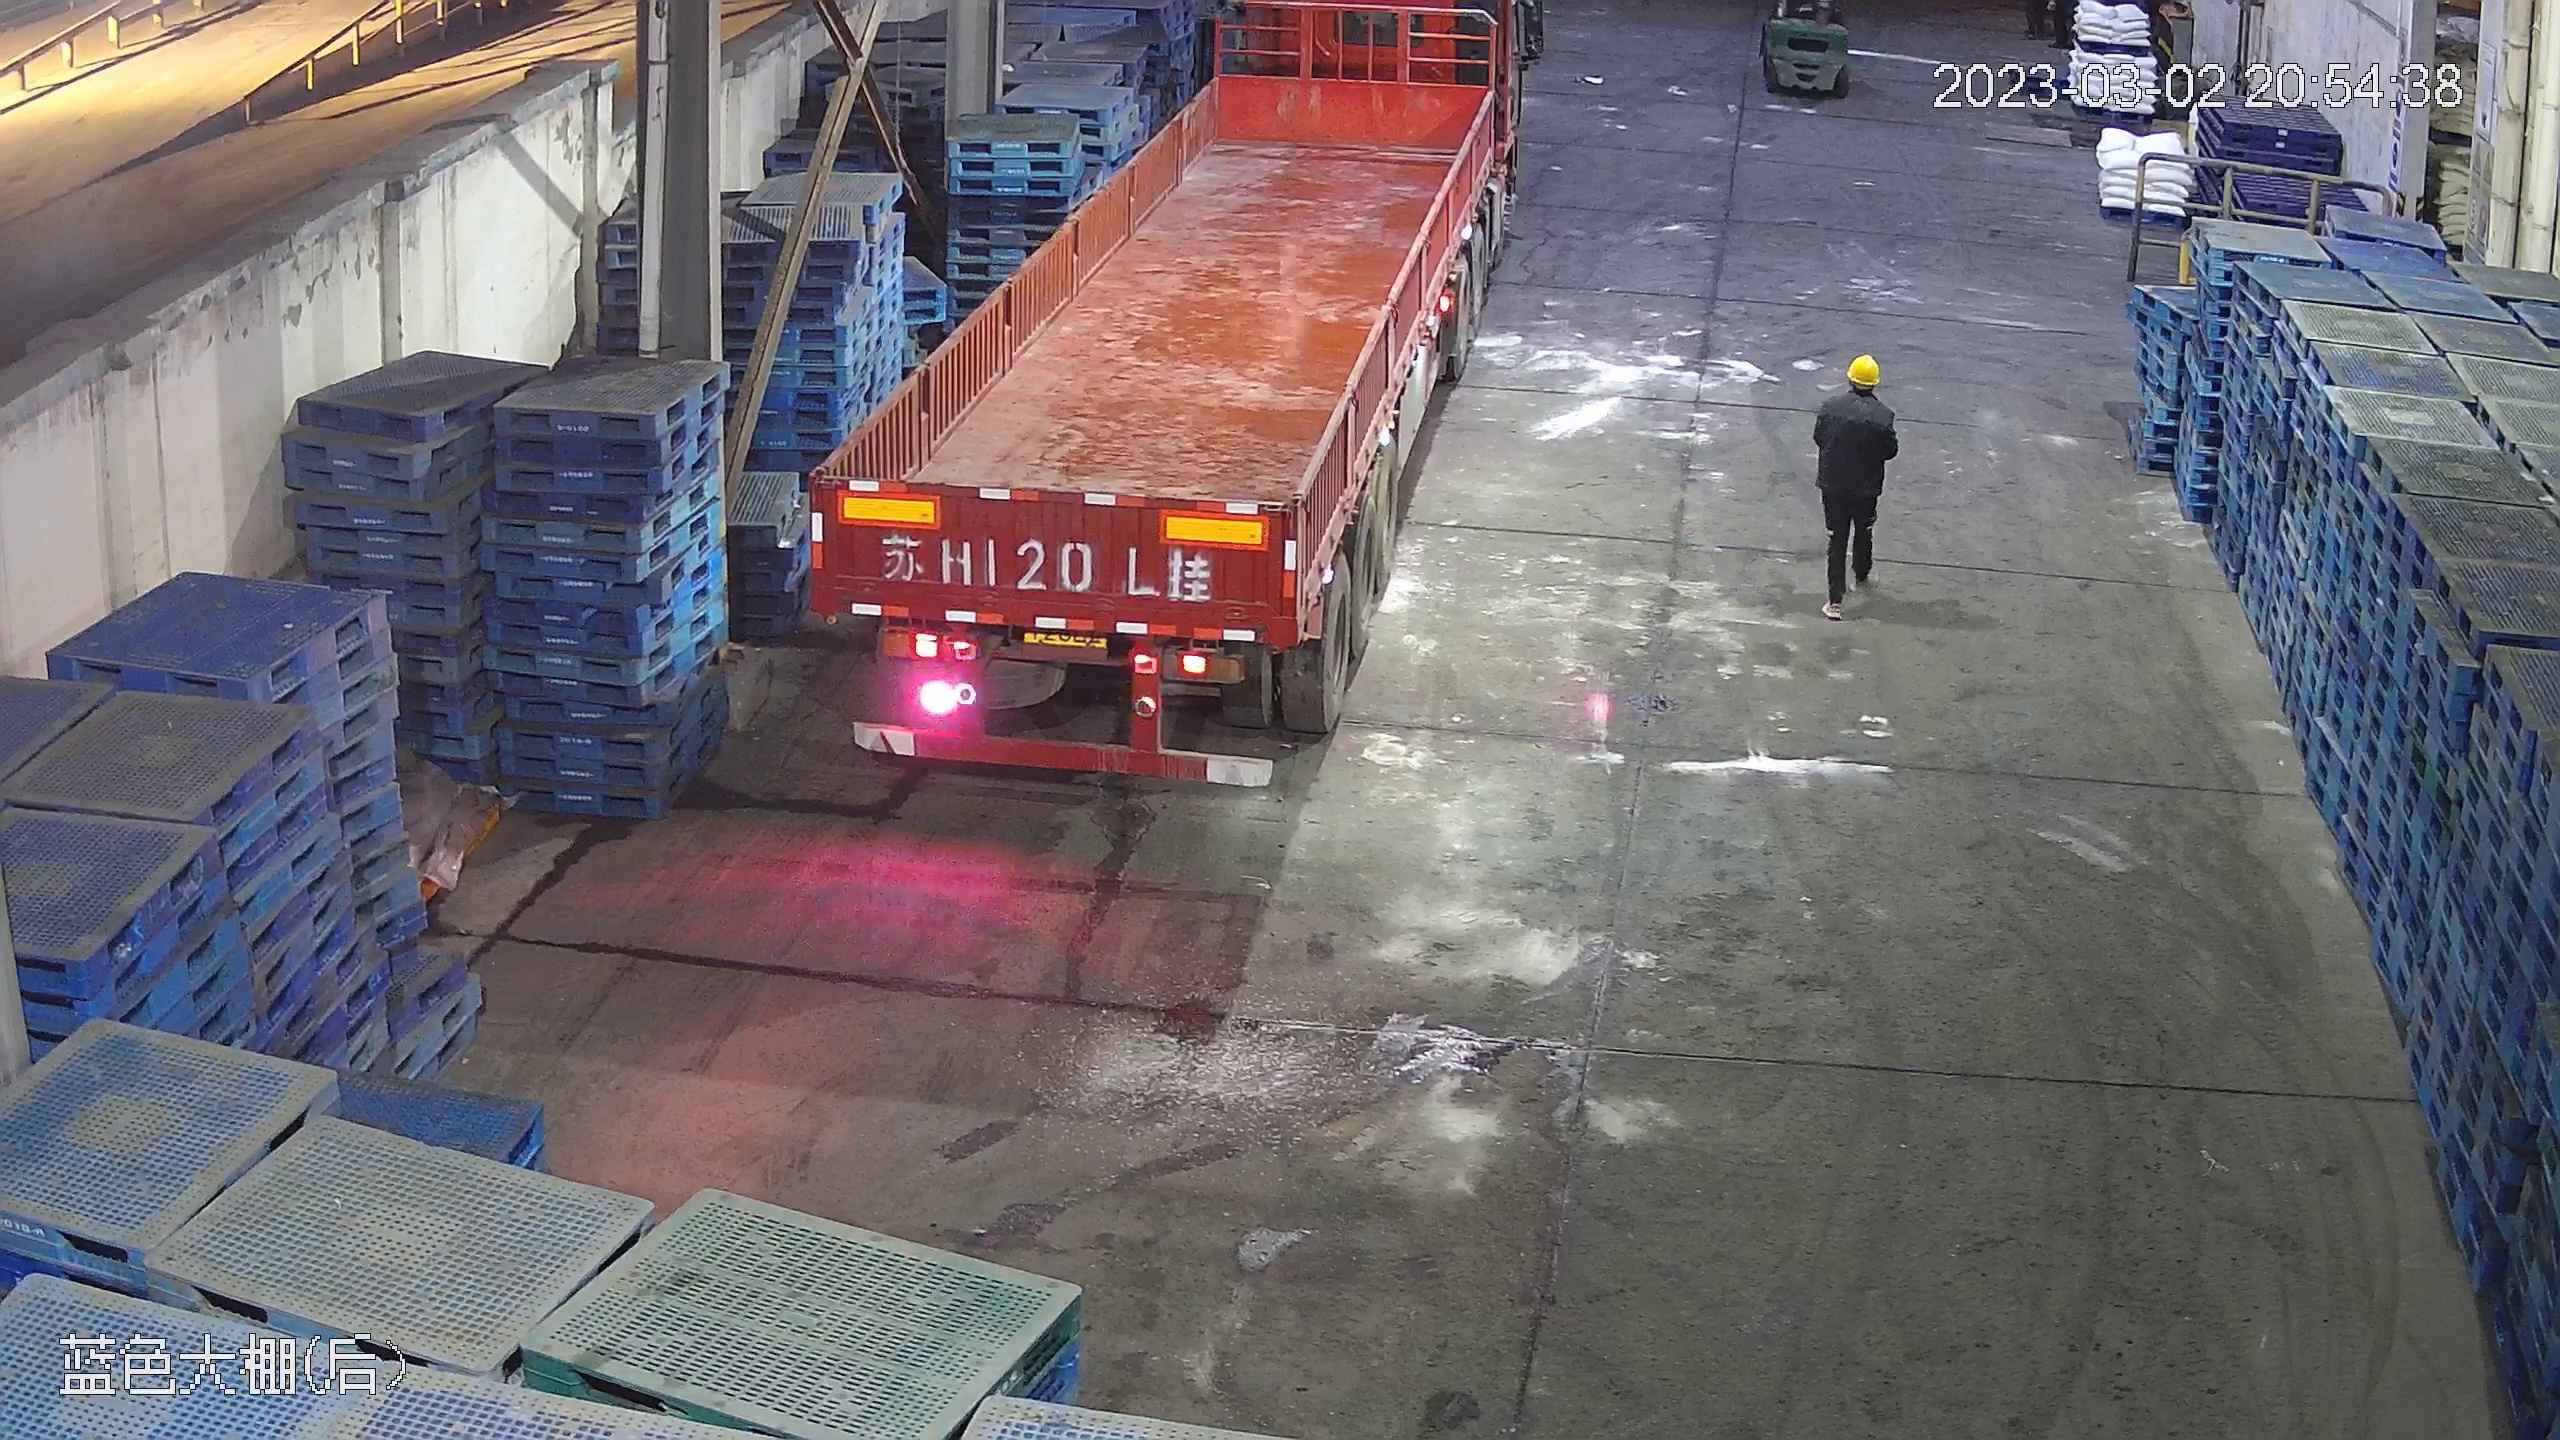head: (1816, 351, 1896, 431)
helmet: (1844, 352, 1883, 384)
people: (1810, 348, 1900, 616)
truck: (798, 4, 1529, 784)
